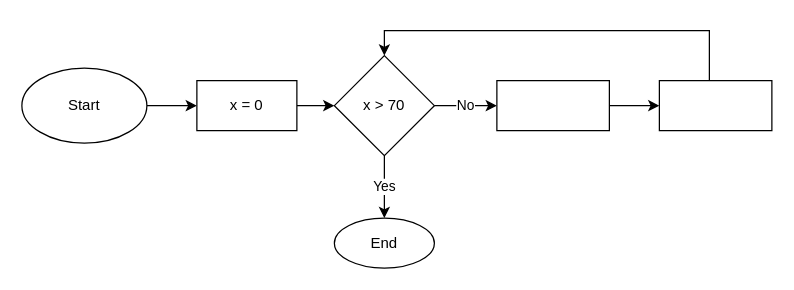
The diagram is 794 pixels wide and 290 high, and some of its shapes have lost their labels. The shapes that lost their labels are listed below. From the top down, each one's box as (x1, y1, x2, y2) in pixels, then its label:
(496, 79, 609, 131): output(x)
(658, 79, 772, 131): x = x + 1
